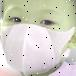with_mask: (1, 2, 76, 76)
